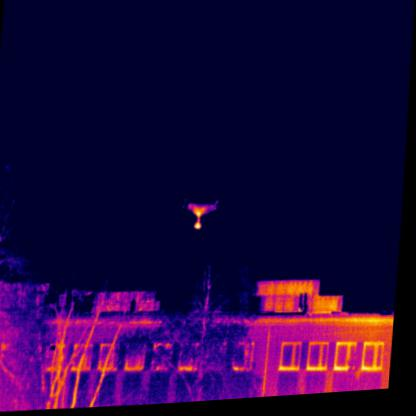drone: (182, 197, 222, 232)
